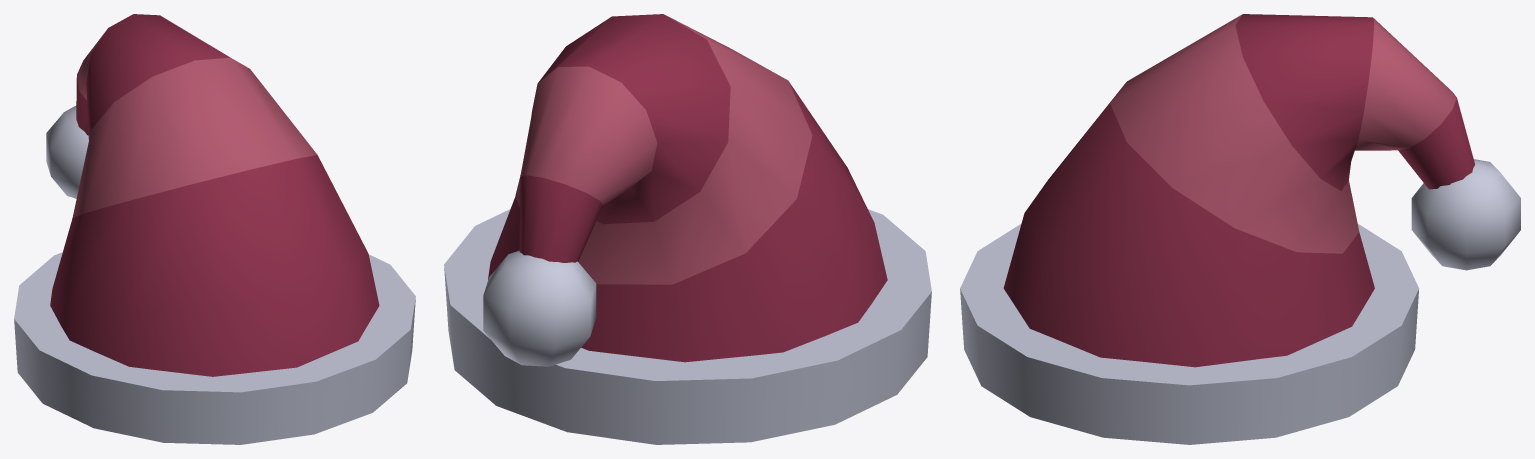
Rendered from Gus_SantaHat.fbx.
The picture shows the model from 3 angles, left to right: view 1: azimuth 30°, elevation 25°; view 2: azimuth 150°, elevation 25°; view 3: azimuth 270°, elevation 25°; orthographic projection. The views are drawn at different scales.
Visible parts, largest first — view 1: Gus_SantaHat; view 2: Gus_SantaHat; view 3: Gus_SantaHat.
Part boxes in pixels (x1,y1,x2,y2): Gus_SantaHat: (14,14,415,444); Gus_SantaHat: (444,14,931,444); Gus_SantaHat: (960,14,1520,444).
Size of the model in its own units: 2.24 by 1.78 by 2.74.
1 material, 1 textured.
